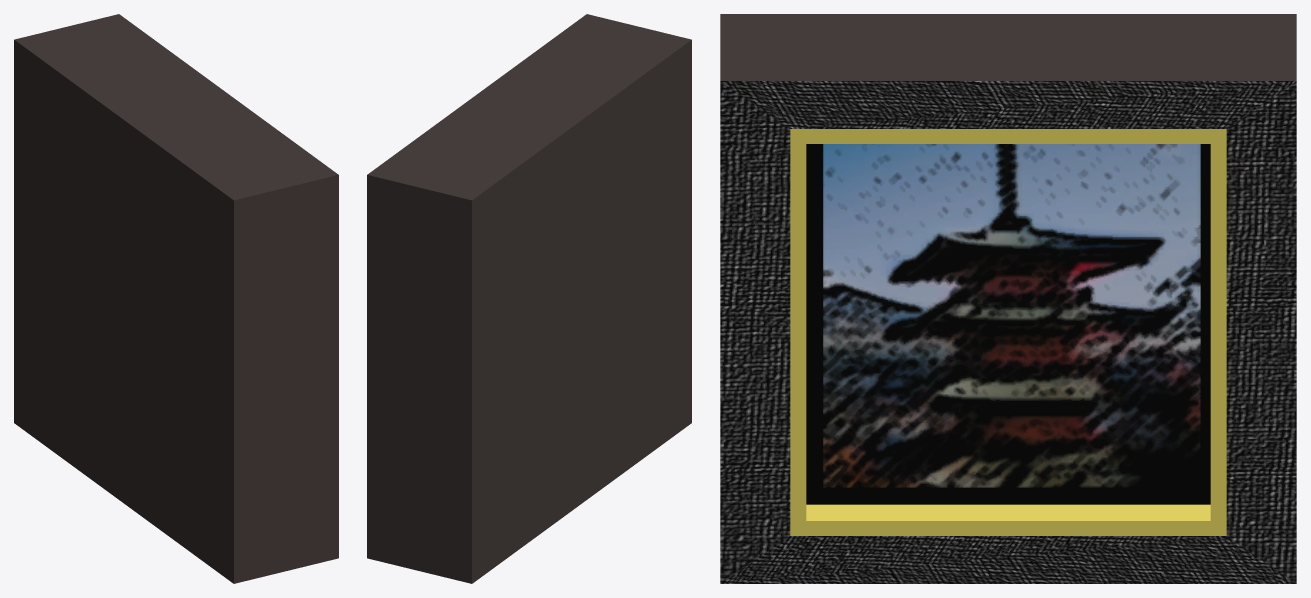
File: Painting_Framed_6.fbx
The picture shows the model from 3 angles, left to right: view 1: azimuth 30°, elevation 25°; view 2: azimuth 150°, elevation 25°; view 3: azimuth 270°, elevation 25°; orthographic projection. The views are drawn at different scales.
Parts seen in each view (by area): view 1: Painting_6; view 2: Painting_6; view 3: Painting_6.
Boxes of the visible parts, <box> form: Painting_6: <box>14,14,338,583</box>; Painting_6: <box>367,14,691,583</box>; Painting_6: <box>720,14,1296,583</box>.
Size of the model in its own units: 32.75 by 114 by 119.
